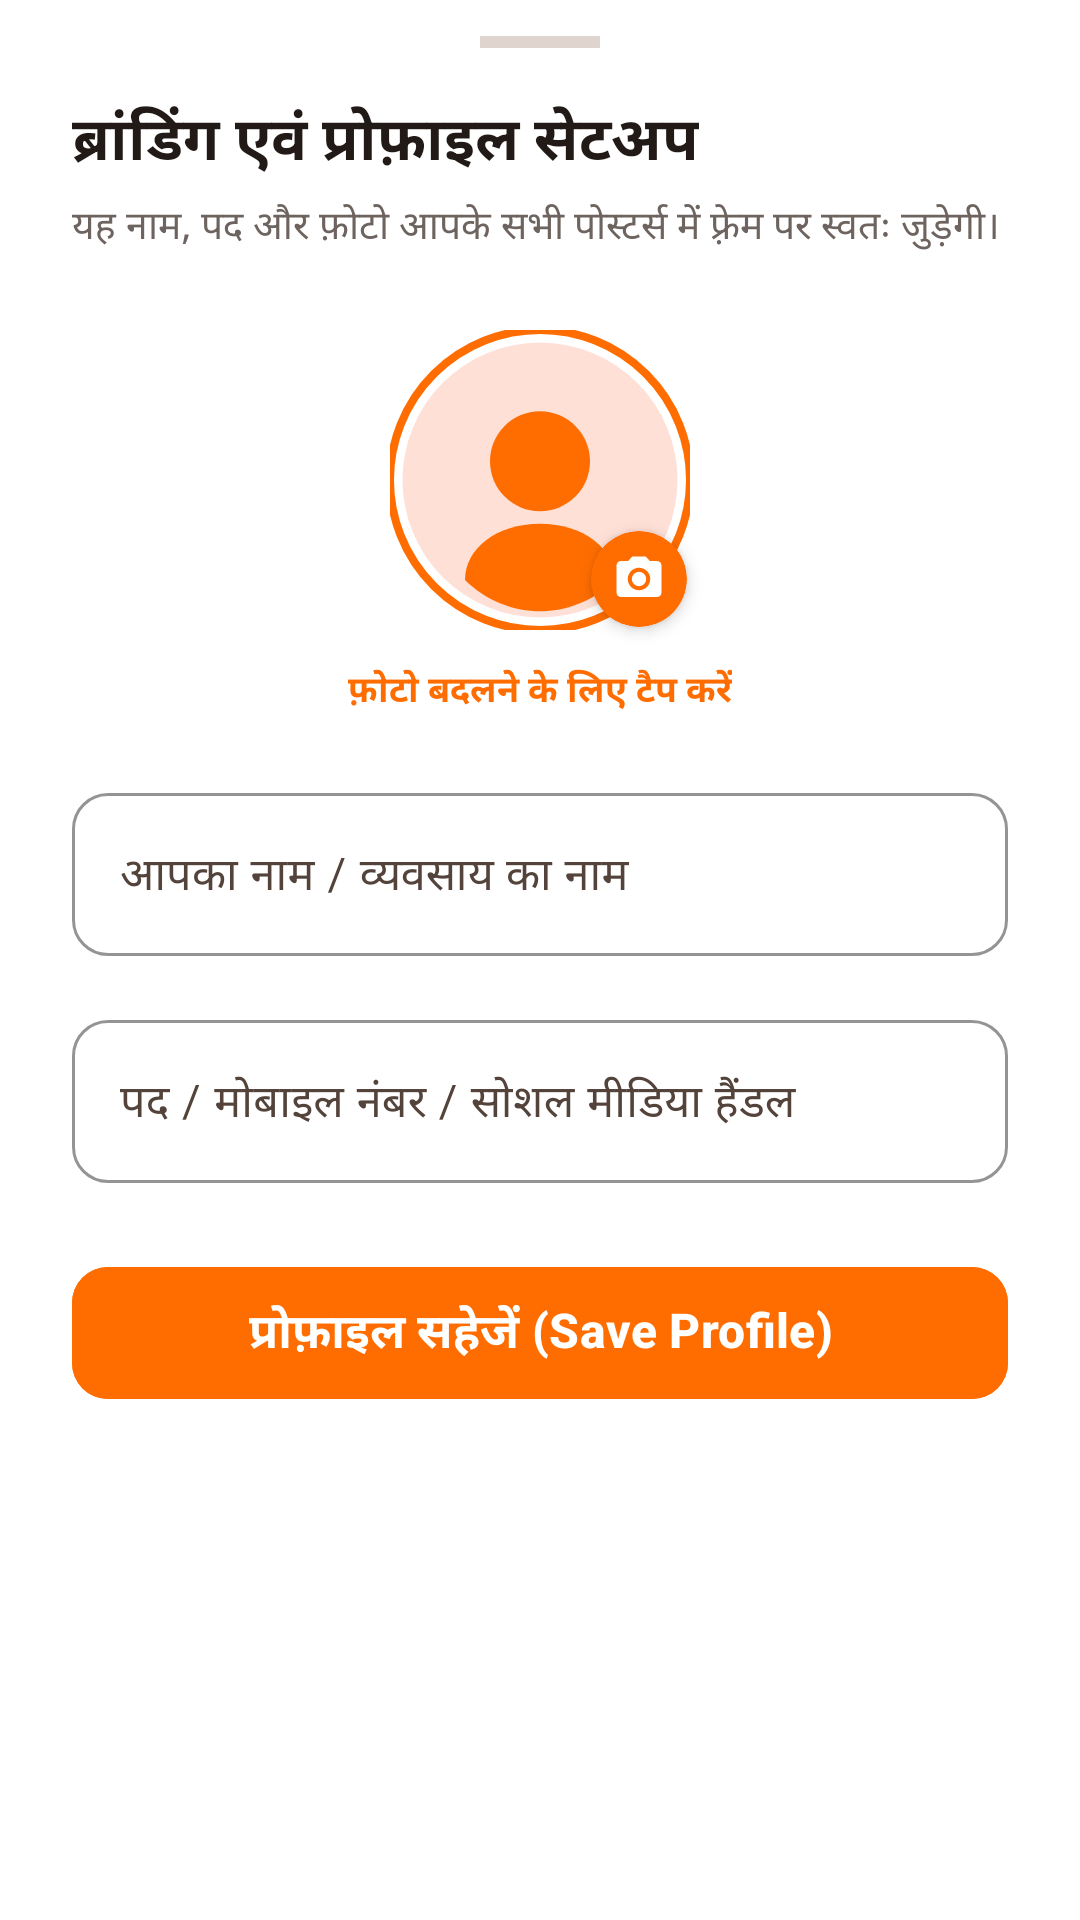

Icons on this 1080px x 1920px Android screen, each with the point to tap as [x,y]:
Select Photo: [639,576]
